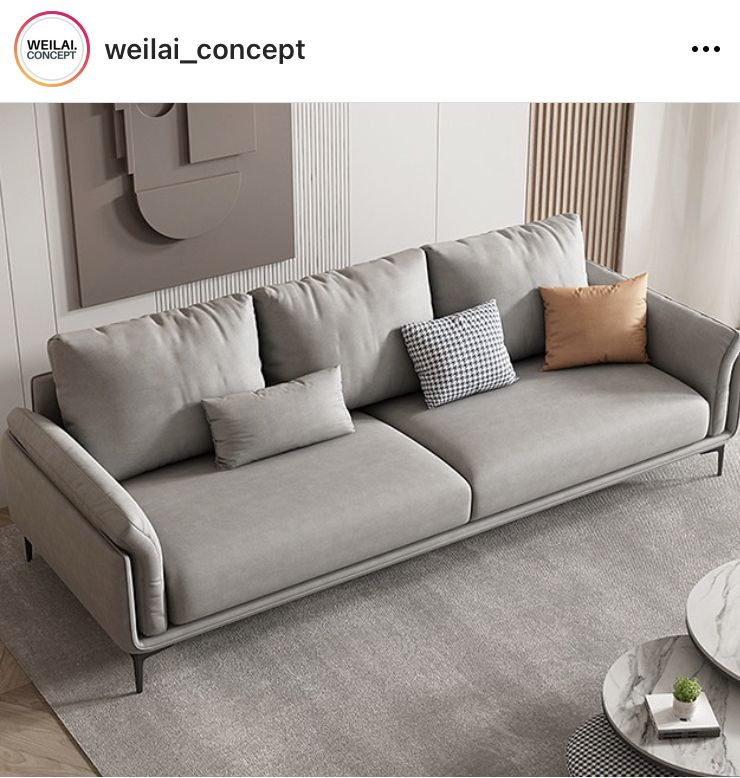3seatersofa: (2, 214, 739, 691)
backrest: (28, 209, 588, 483)
base: (3, 364, 739, 653)
leftarmrest: (648, 292, 739, 433), (587, 261, 626, 286)
leg: (132, 647, 165, 693), (701, 445, 724, 476), (24, 538, 32, 561)
pillow: (203, 365, 354, 468), (401, 299, 518, 408), (535, 274, 649, 370)
rightarmrest: (9, 408, 166, 634)
seat: (124, 360, 708, 623)
